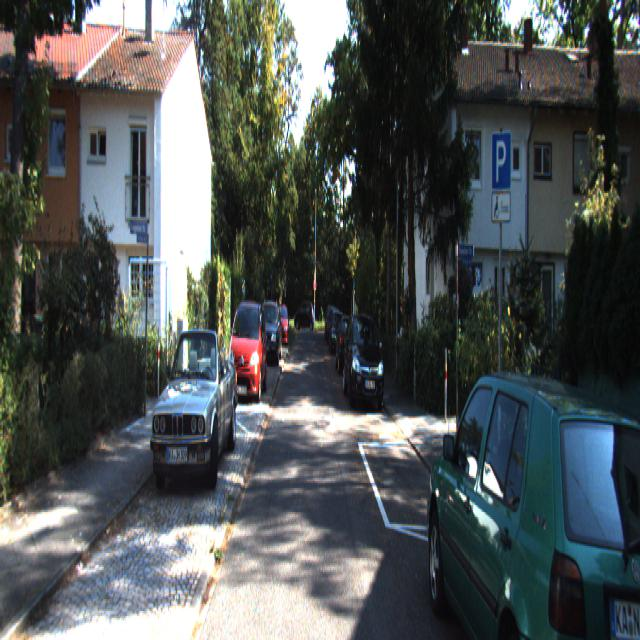Car: (423, 338, 640, 638), (150, 326, 239, 498), (343, 309, 387, 411), (228, 296, 266, 400), (255, 299, 282, 367), (335, 314, 362, 375), (272, 303, 290, 349)
